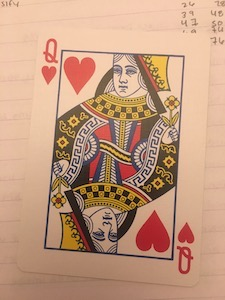QueenOfHearts: (18, 22, 209, 289)
